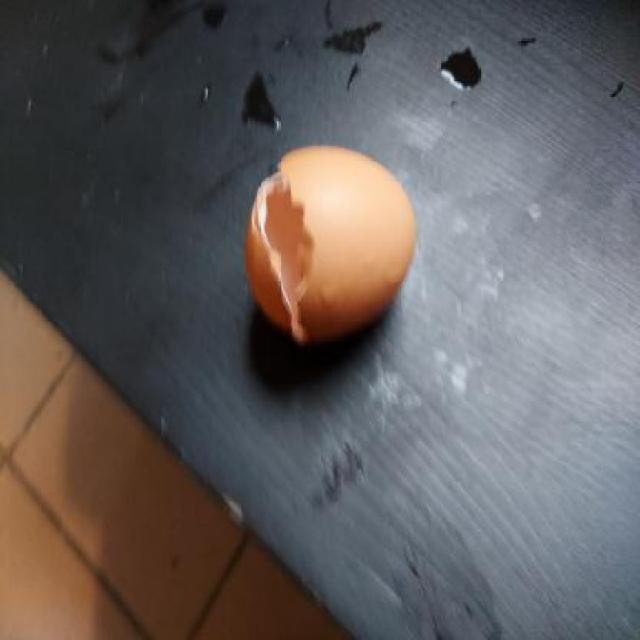biodegradable: (242, 144, 424, 344)
